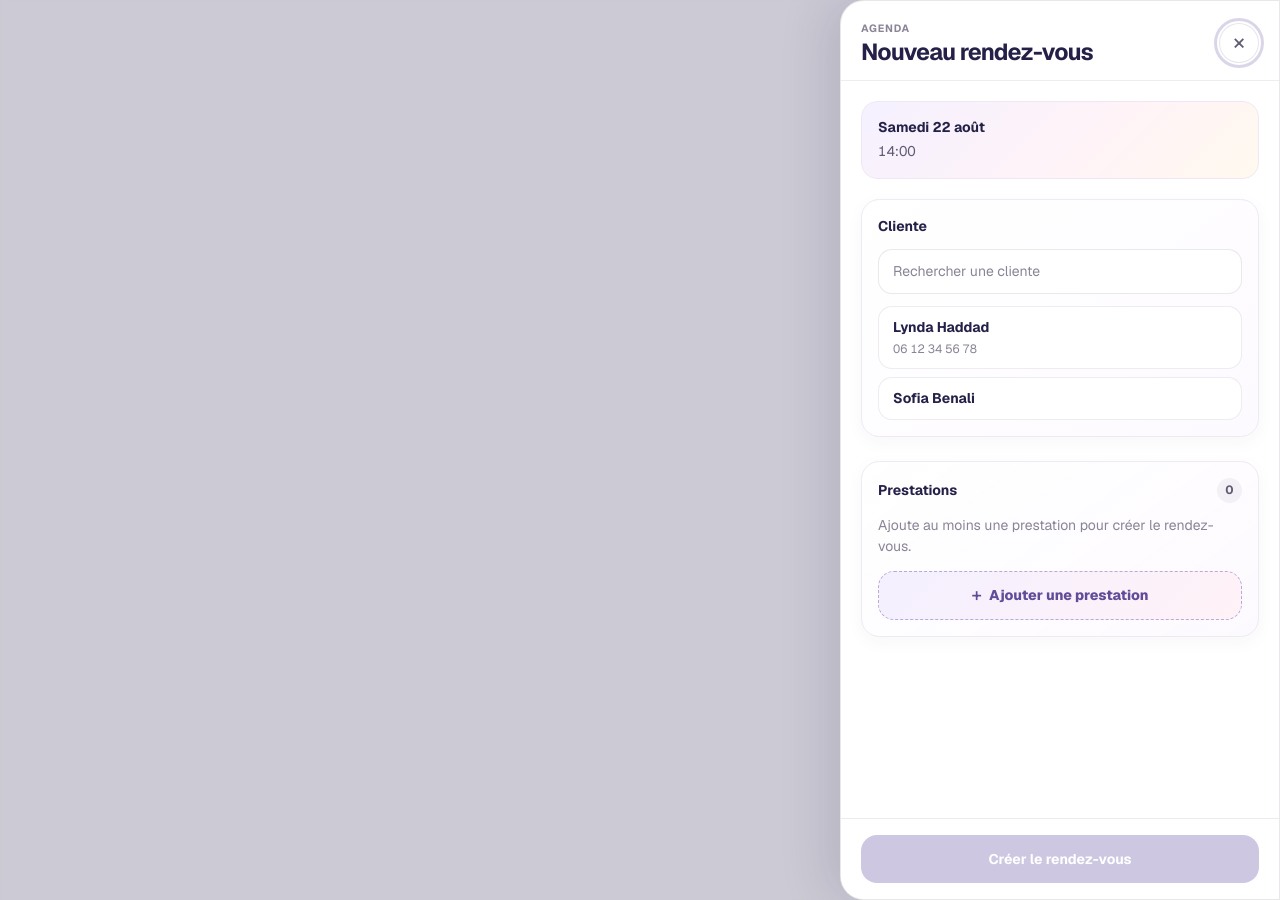
Test: CreateAppointmentPanel › filters clients from the search input and allows changing the selection
Type "sof" into the search field. click: (1060, 271)
box: [878,249,1242,294]
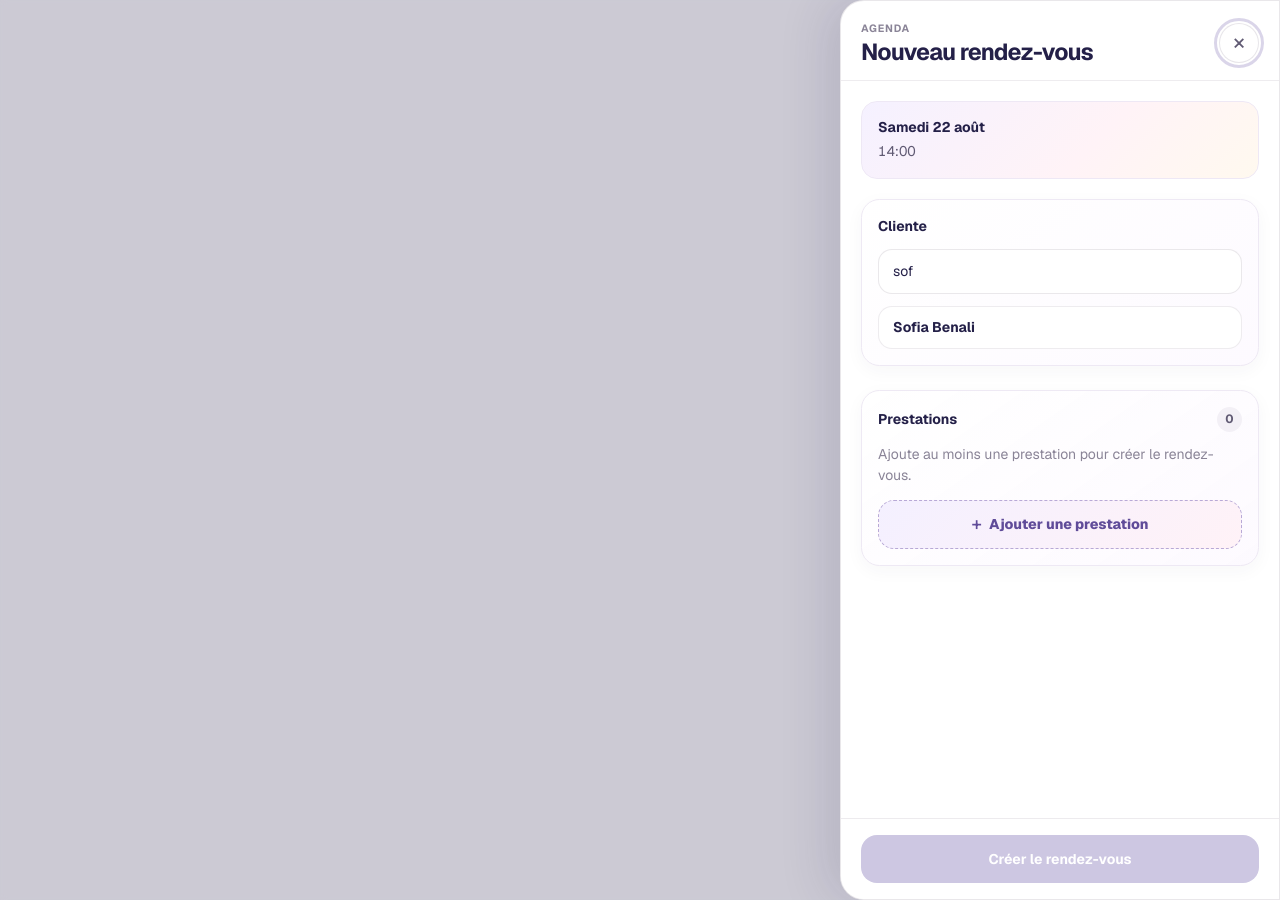
Check: the button "Lynda Haddad" is gone
Click the button "Sofia Benali". click: (934, 327)
box: [878,306,1242,349]
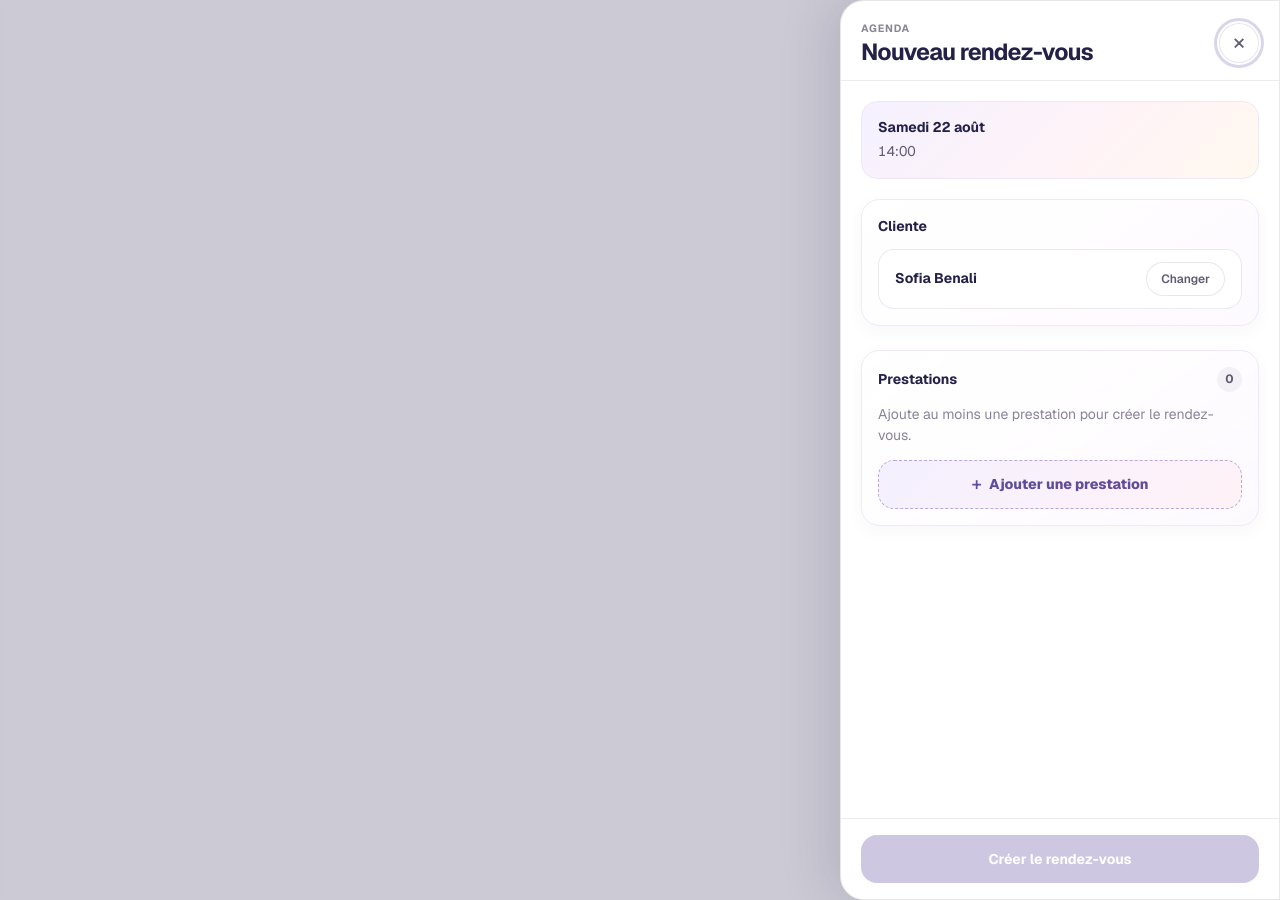
Check: the text "Sofia Benali" is shown, box [895,268,977,289]
Click the button "Changer". click: (1186, 279)
box: [1146,262,1225,296]
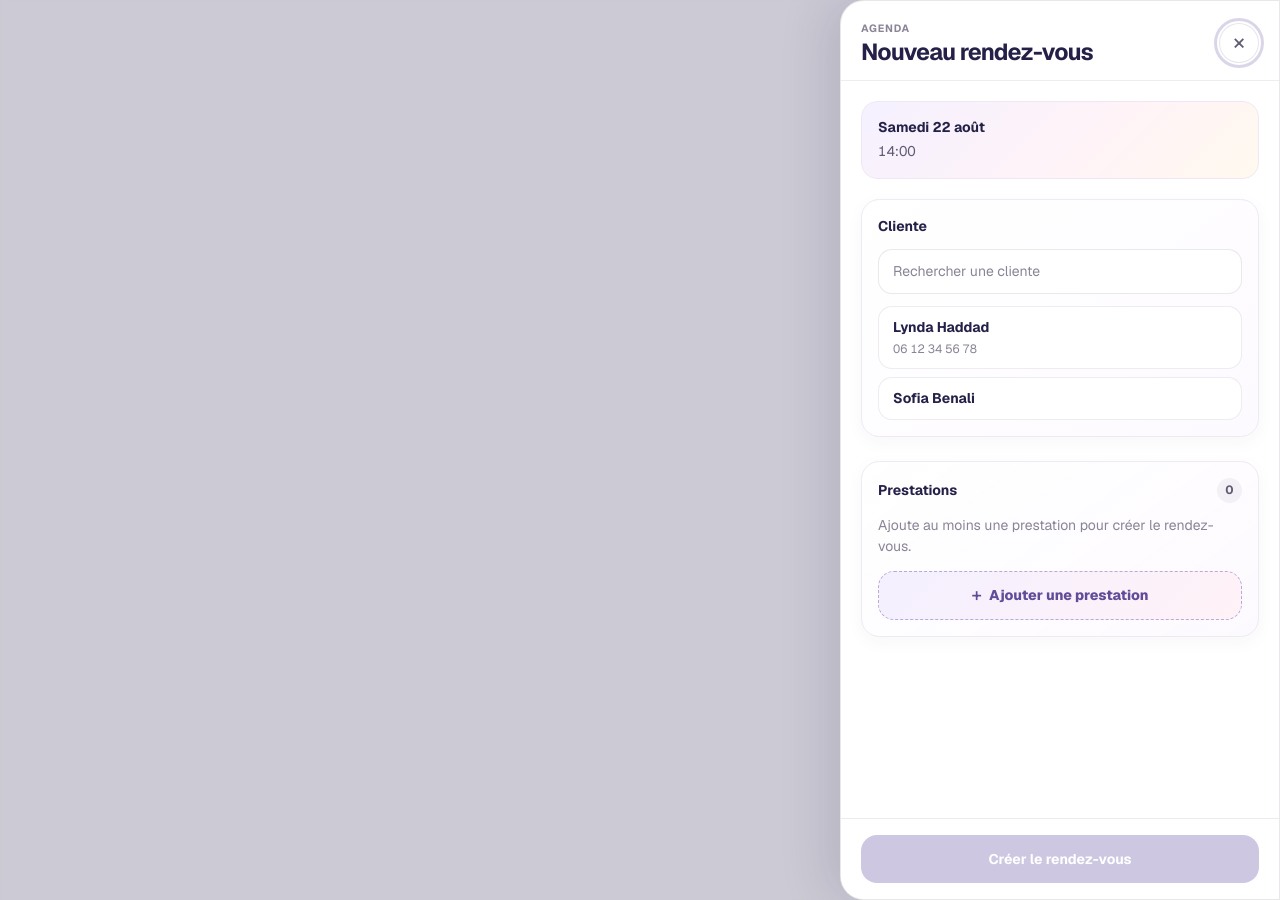
Check: the search field is shown, box [878,249,1242,294]
